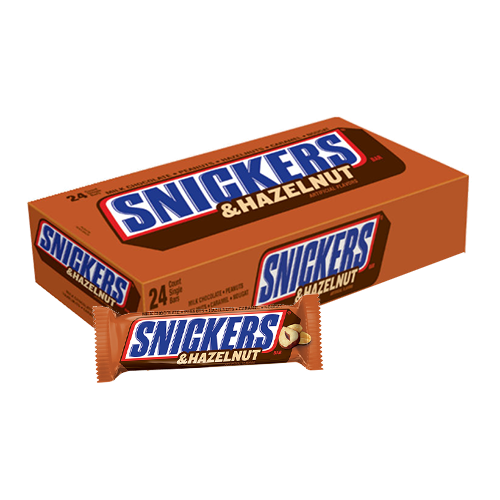snickers: (112, 130, 359, 236), (110, 130, 359, 228), (258, 219, 374, 302), (32, 218, 126, 303), (127, 312, 282, 357)
